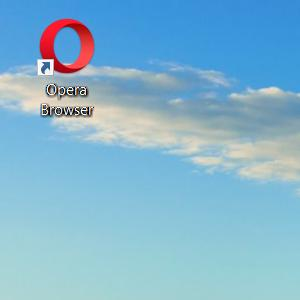opera: (37, 18, 95, 77)
